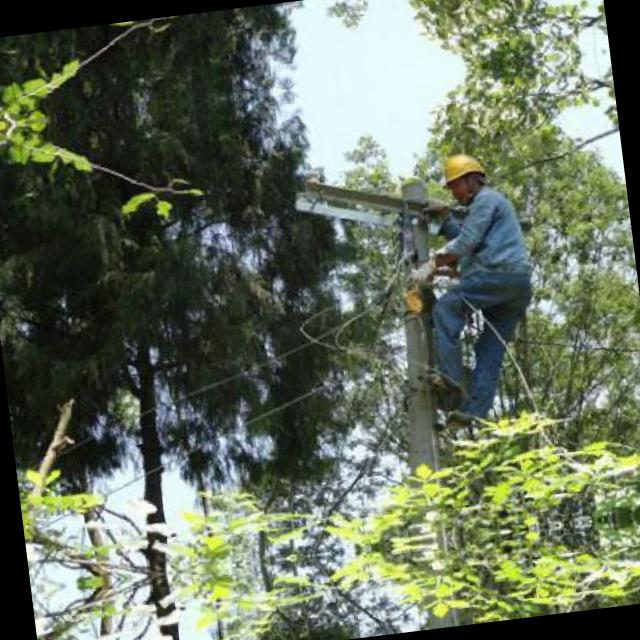helmet: (438, 146, 492, 204)
